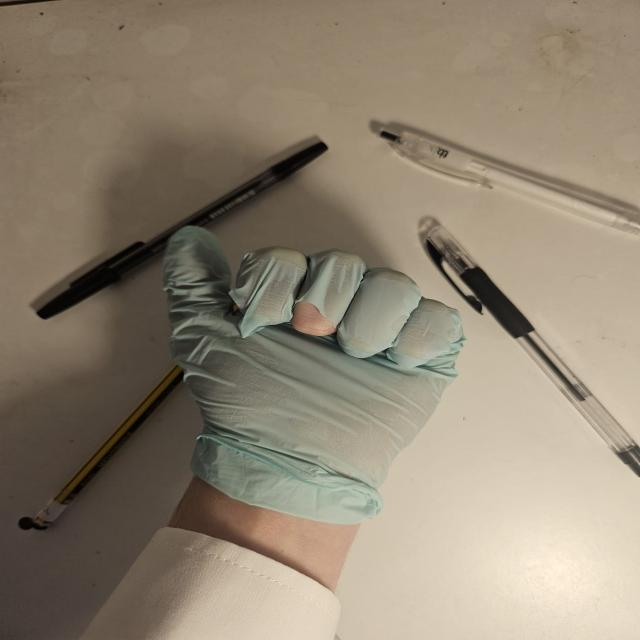gloves_damaged: (153, 222, 470, 528)
